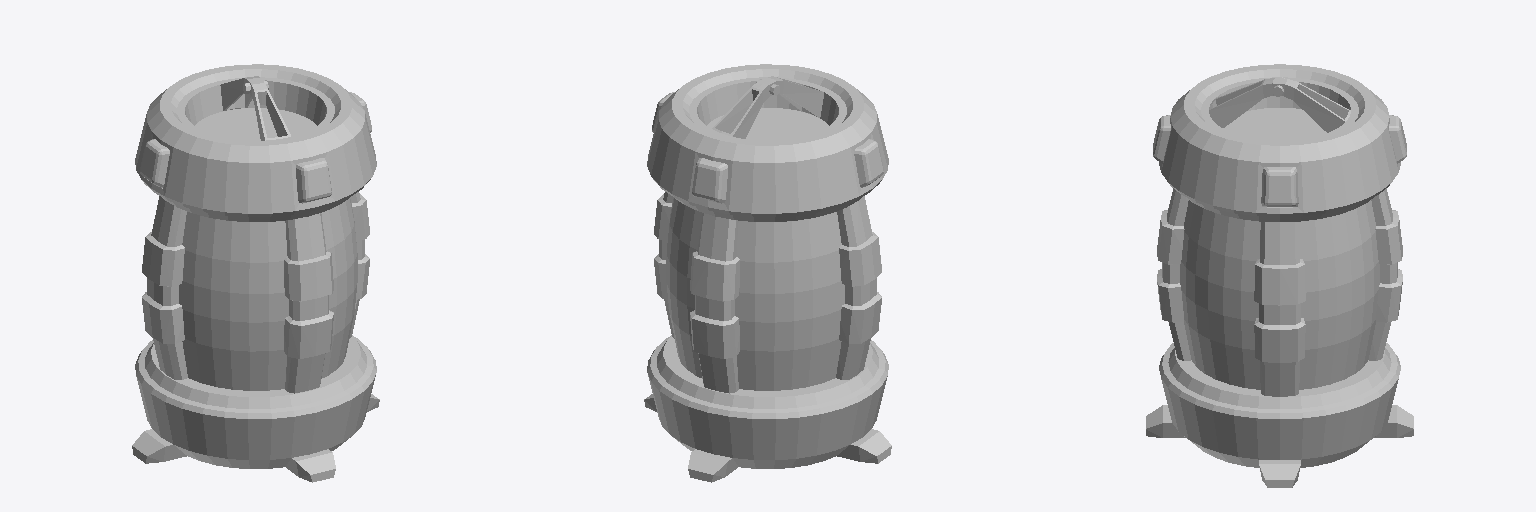
The model's file is HazardBarrel_02.obj.
3 views of the same model, side by side, from view 1: azimuth 30°, elevation 25°; view 2: azimuth 150°, elevation 25°; view 3: azimuth 270°, elevation 25° (orthographic).
Visible parts, largest first — view 1: RadioactiveBarrel_02_Mesh.032, Cylinder.10_low.003_Mesh.037, Cylinder.10_low.002_Mesh.035; view 2: RadioactiveBarrel_02_Mesh.032, Cylinder.10_low.004_Mesh.033, Cylinder.10_low.005_Mesh.036; view 3: RadioactiveBarrel_02_Mesh.032, Cylinder.10_low.005_Mesh.036, Cylinder.10_low.002_Mesh.035.
Boxes of the visible parts, x1=… form: RadioactiveBarrel_02_Mesh.032: x1=132, y1=64, x2=379, y2=482; Cylinder.10_low.003_Mesh.037: x1=179, y1=212, x2=288, y2=390; Cylinder.10_low.002_Mesh.035: x1=321, y1=198, x2=357, y2=377; RadioactiveBarrel_02_Mesh.032: x1=644, y1=64, x2=891, y2=482; Cylinder.10_low.004_Mesh.033: x1=735, y1=212, x2=844, y2=390; Cylinder.10_low.005_Mesh.036: x1=666, y1=198, x2=702, y2=377; RadioactiveBarrel_02_Mesh.032: x1=1146, y1=64, x2=1413, y2=487; Cylinder.10_low.005_Mesh.036: x1=1299, y1=200, x2=1379, y2=389; Cylinder.10_low.002_Mesh.035: x1=1180, y1=200, x2=1260, y2=389.
Bounding box in the file's own units: 1.27 × 1.83 × 1.27.